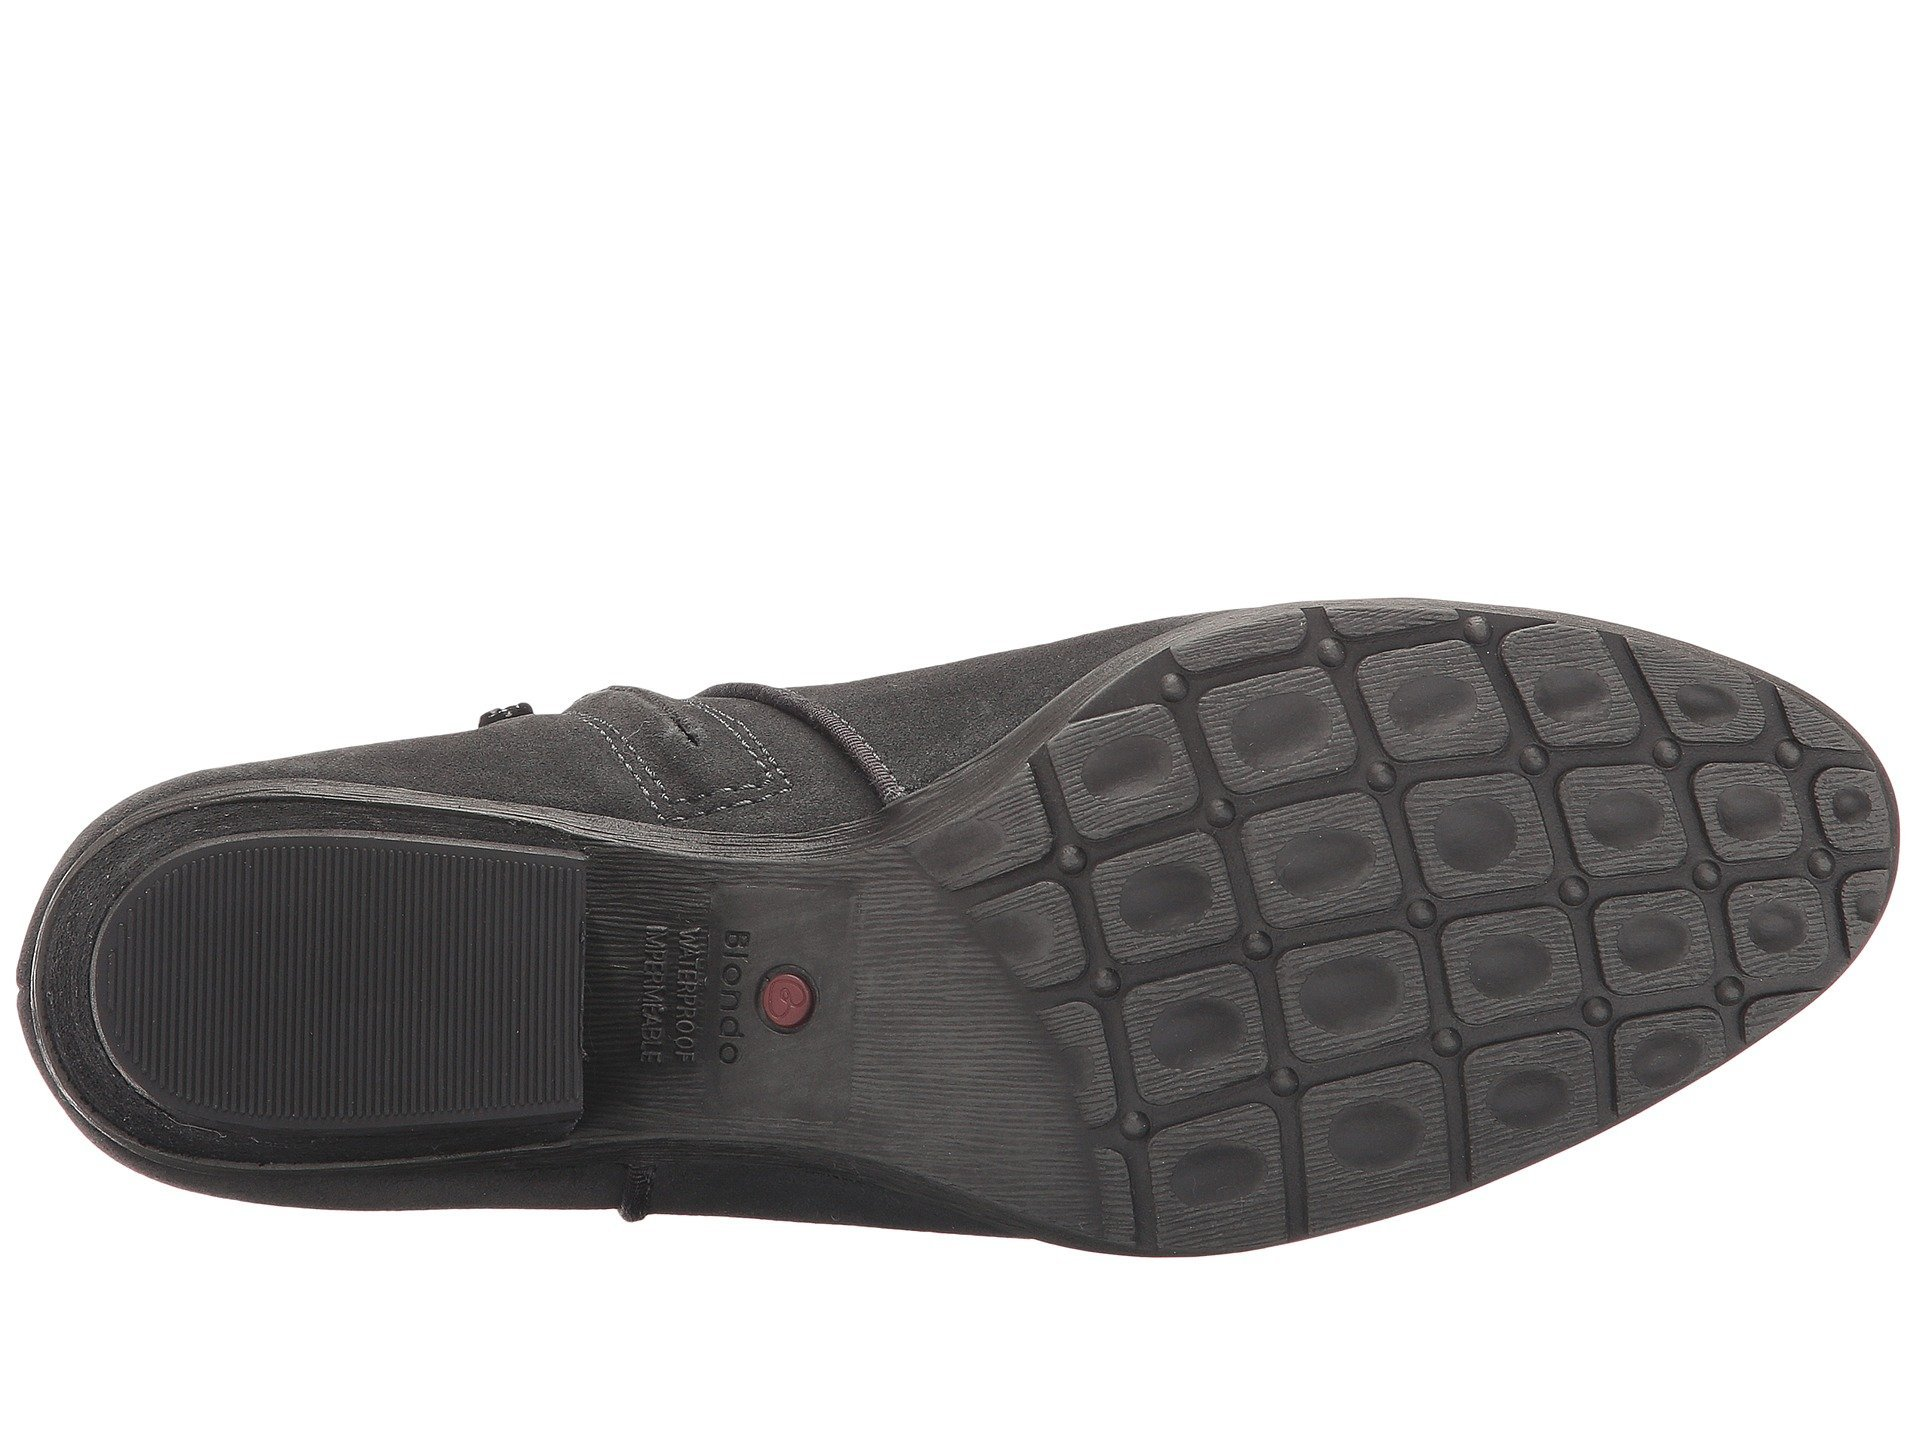circle: (1169, 667, 1637, 1106), (621, 908, 856, 1107)
line: (169, 891, 457, 1107), (621, 908, 856, 1107)
quad: (1169, 667, 1637, 1106)
text: (621, 908, 856, 1107)
